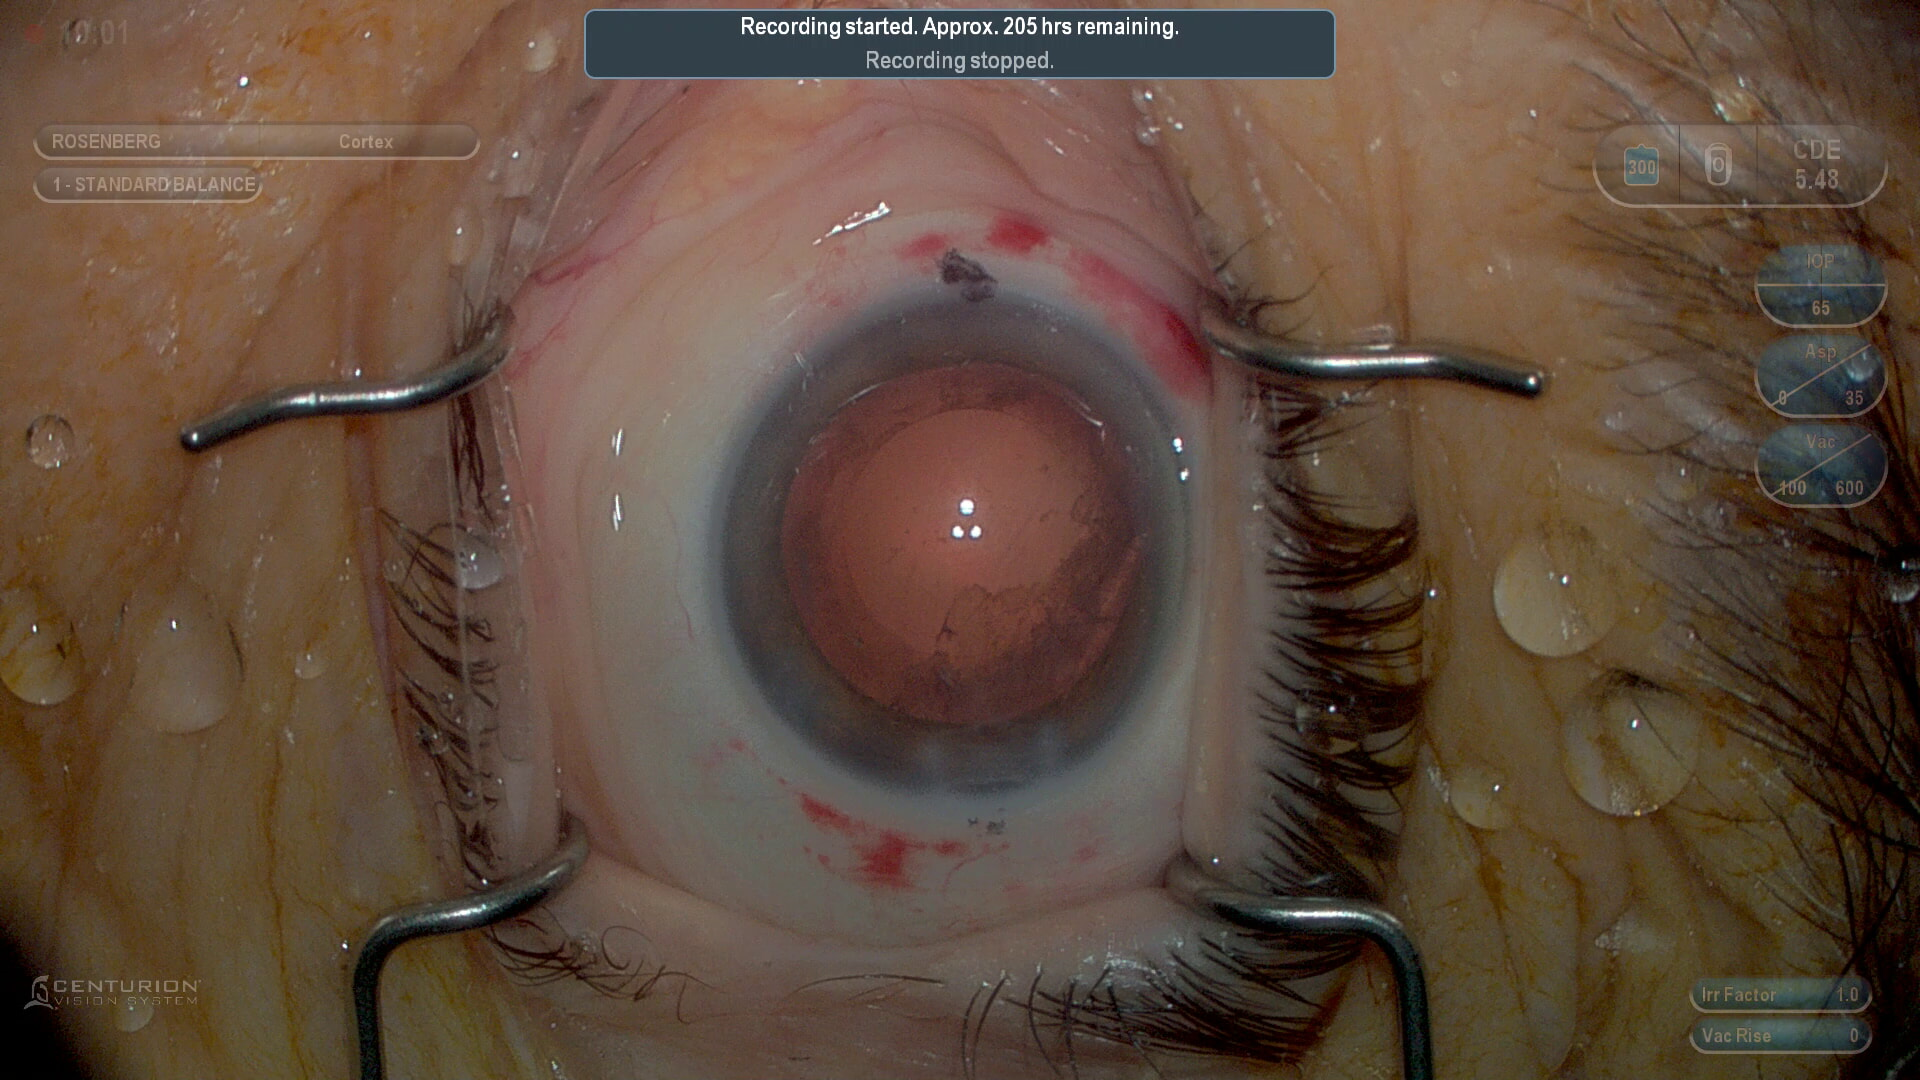iris: (730, 299, 1188, 789)
pupil: (772, 361, 1135, 733)
